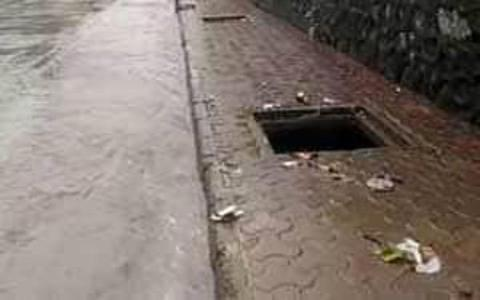open manhole: (240, 94, 420, 182)
